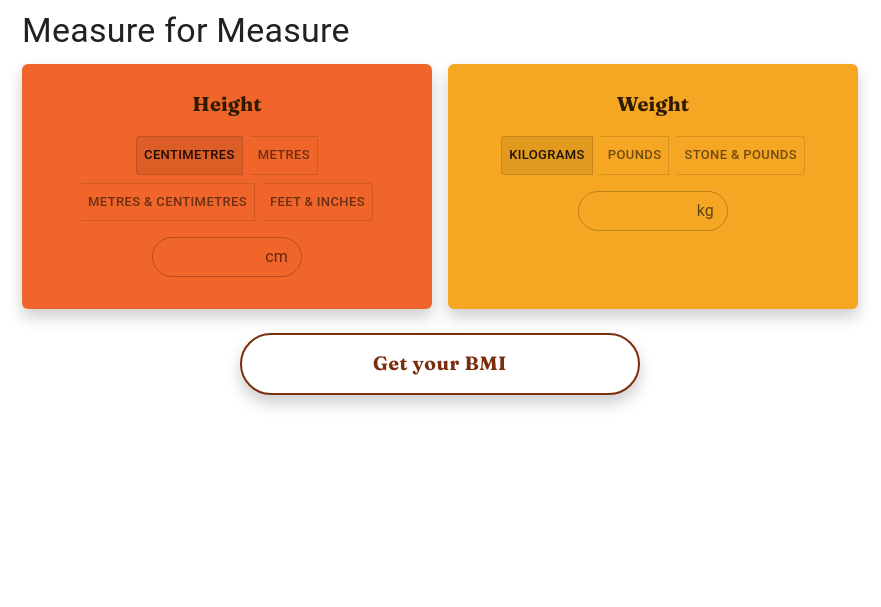
Test case: App › resets everything when Reset is clicked
Type "170" into the number field next to "cm" at (205, 257), box [152, 237, 257, 277]
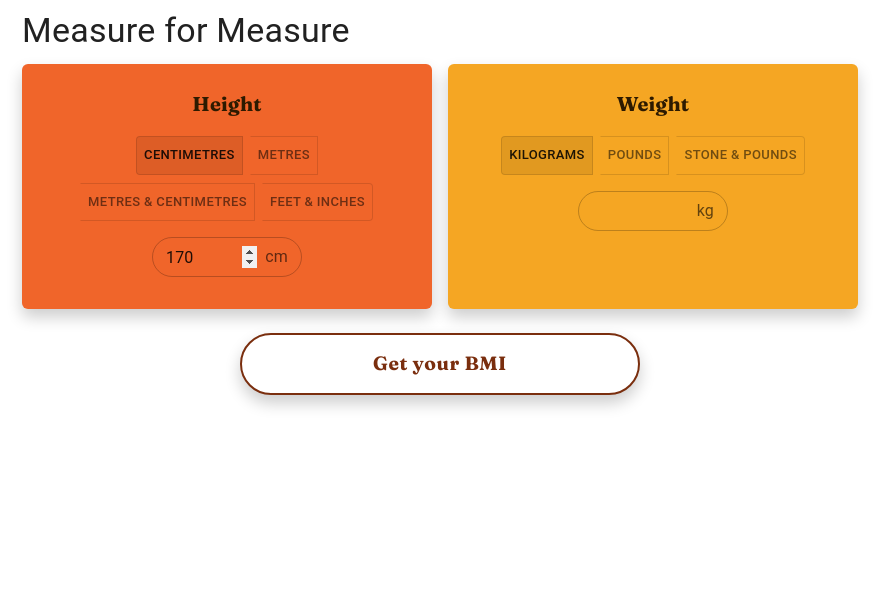
Type "70" into the number field next to "kg" at (633, 211), box [578, 191, 689, 231]
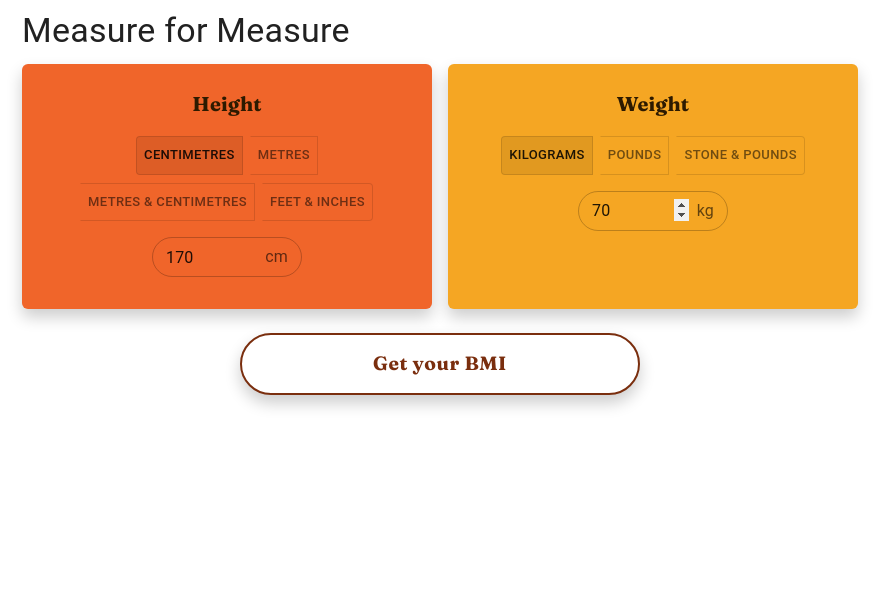
Click the button "Get your BMI" at (440, 364), box [240, 333, 640, 395]
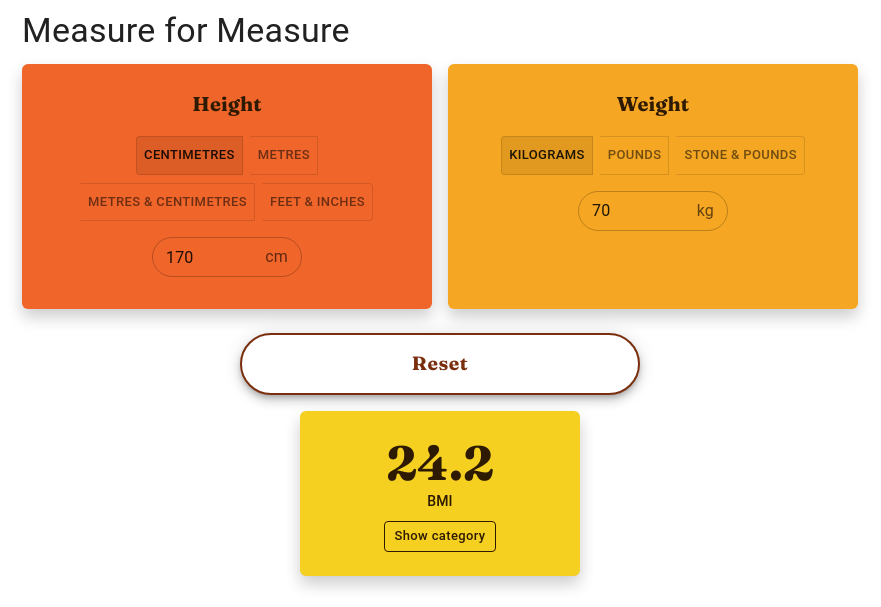
Click the button "Reset" at (440, 364), box [240, 333, 640, 395]
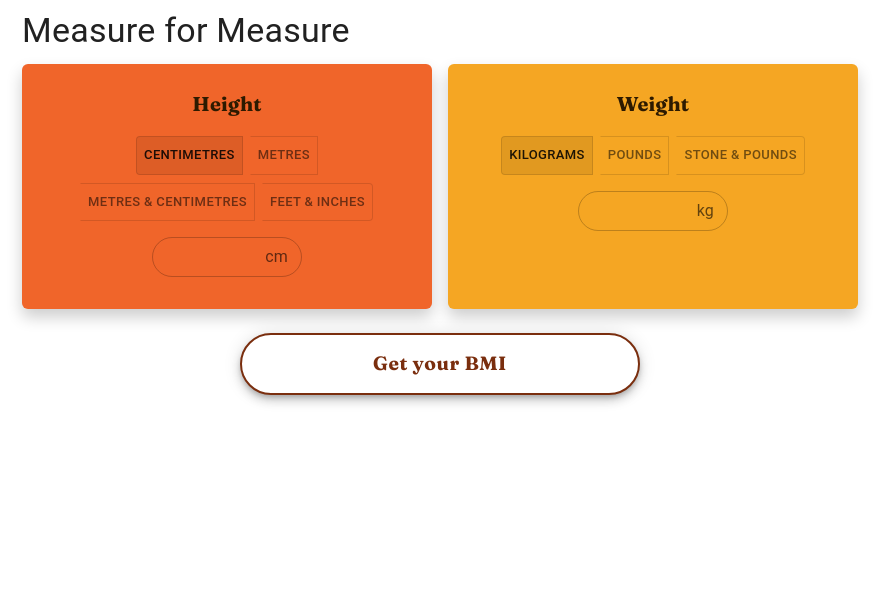
Now the button "Get your BMI" is shown, box [240, 333, 640, 395]
Now the heading "24.2" is gone
